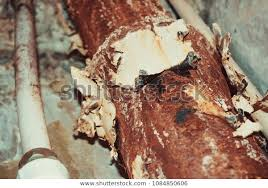rust: (111, 56, 268, 178), (64, 1, 182, 49), (185, 18, 224, 64)
